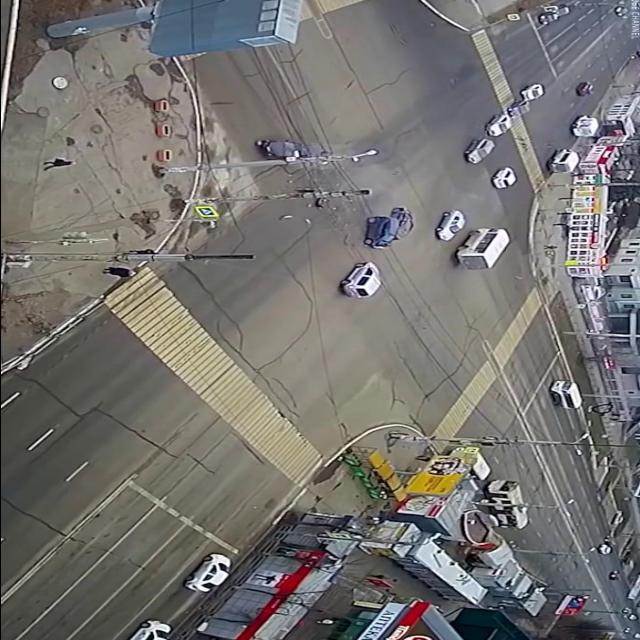accident: (248, 131, 422, 253)
non_accident: (453, 81, 553, 167), (431, 206, 512, 273)
